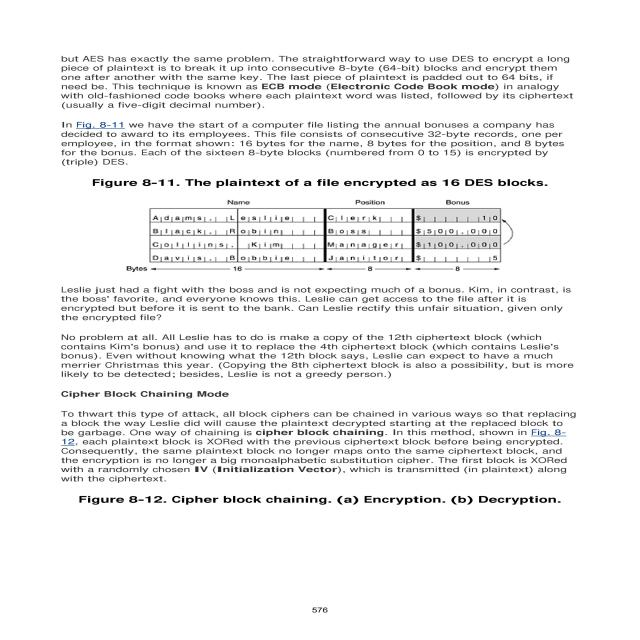diagram: (60, 174, 596, 276)
